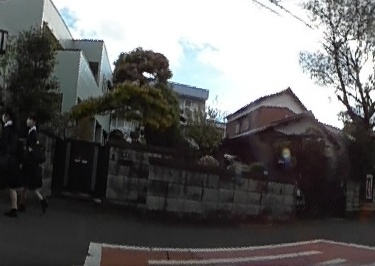person: (19, 112, 48, 208), (1, 109, 21, 213)
